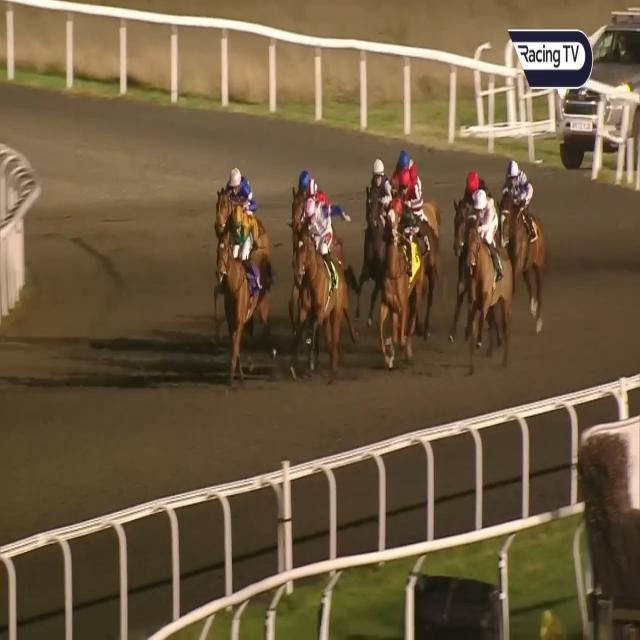horses-racing: (213, 209, 281, 380), (298, 192, 349, 376), (498, 156, 546, 323), (379, 181, 426, 351), (460, 186, 502, 367), (447, 166, 489, 256), (399, 156, 434, 257), (210, 164, 258, 237), (362, 152, 390, 256), (282, 158, 316, 220), (396, 156, 422, 188)
